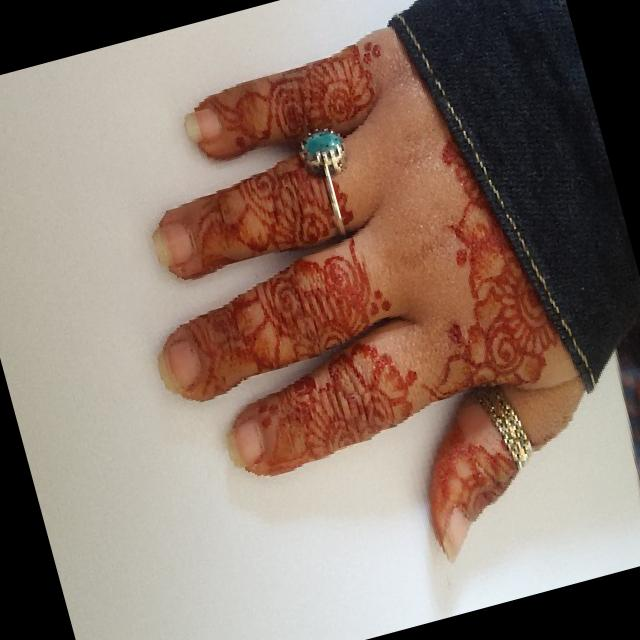Nail: (157, 340, 200, 391), (150, 222, 192, 267), (440, 507, 470, 562), (227, 420, 262, 467), (183, 107, 221, 142)
